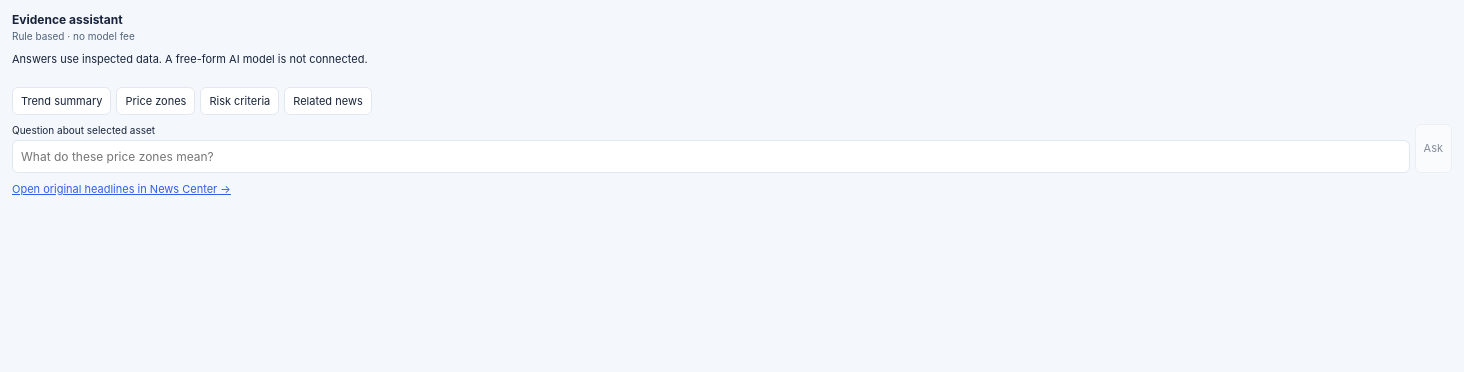
it: makes no request until a supported market question; unknown questions and news do not start market streams
Type "tell me a joke" into the field at (711, 156), box x1=12 y1=140 x2=1410 y2=173
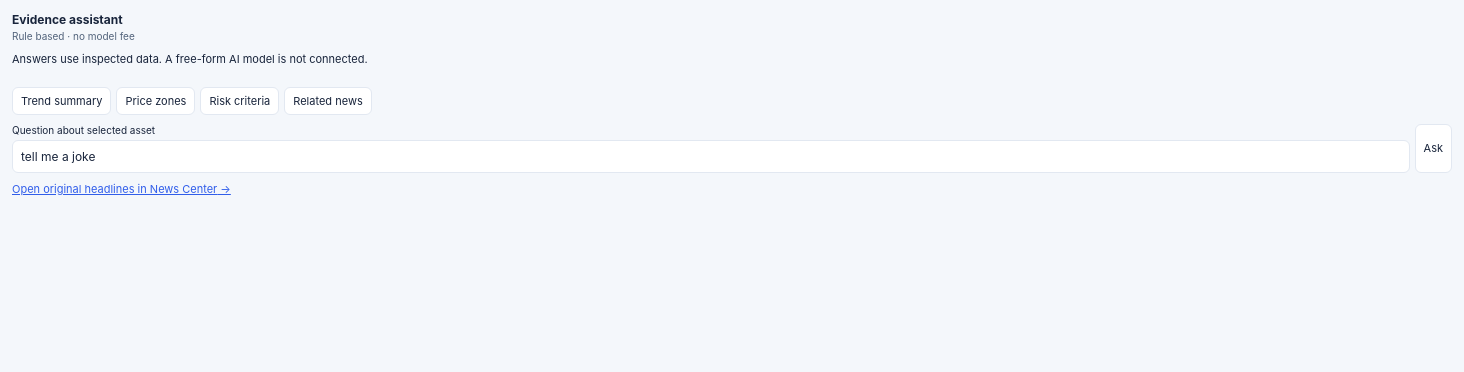
Click the button "Ask" at (1433, 148), box x1=1415 y1=124 x2=1452 y2=173
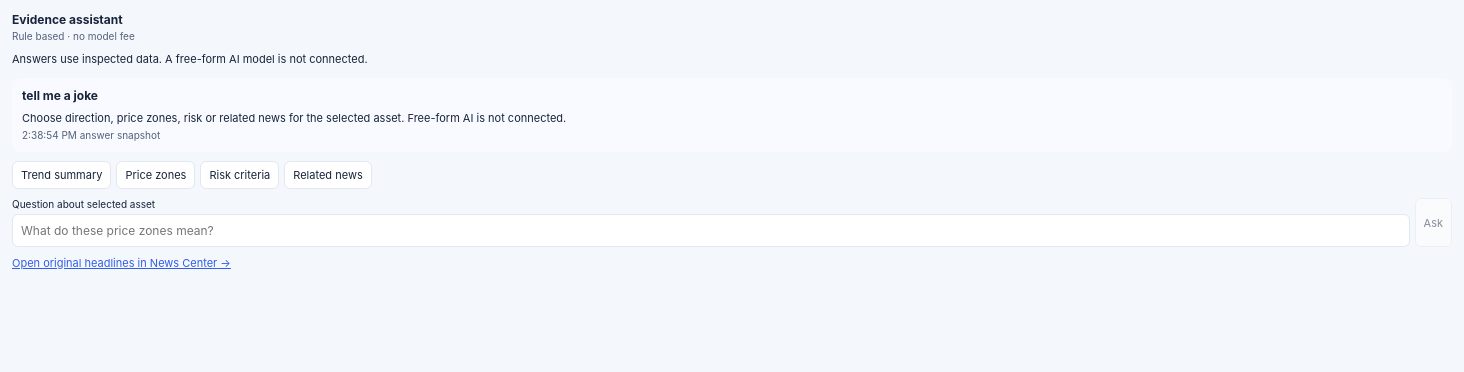
expect the text "Choose direction, price zones" is shown: met, box x1=22 y1=111 x2=566 y2=125
Click the button "Related news" at (328, 175), box x1=284 y1=161 x2=372 y2=189
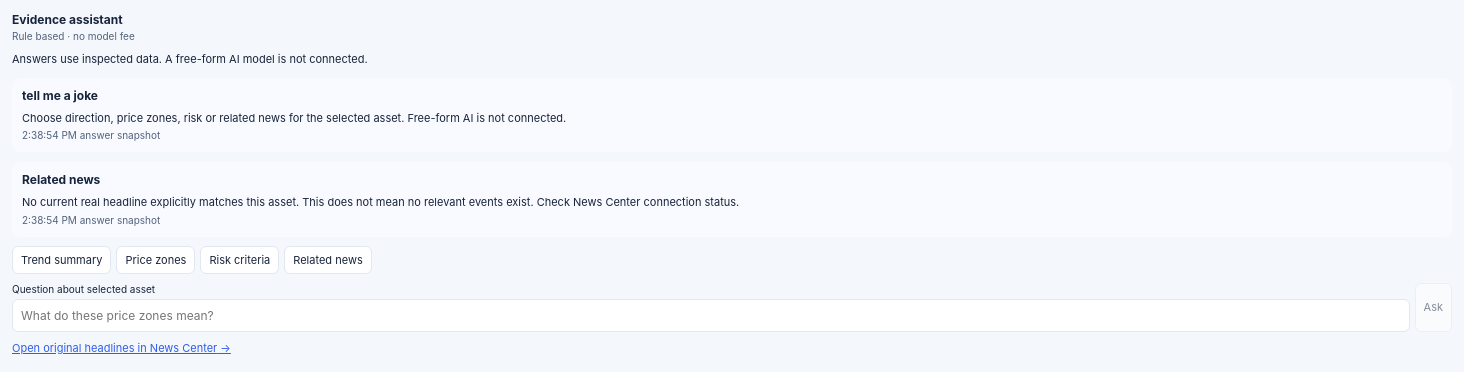
expect the text "No current real headline" is shown: met, box x1=22 y1=195 x2=739 y2=209
